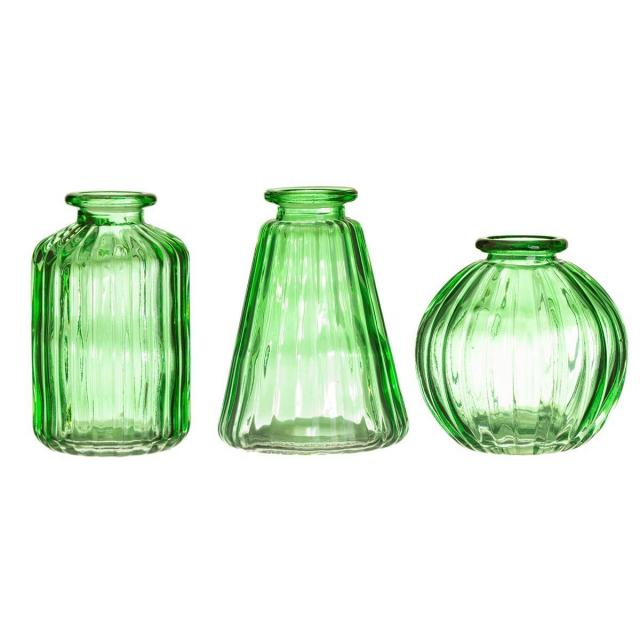non-organic waste: (218, 183, 412, 454), (413, 230, 631, 462), (25, 187, 202, 463)
